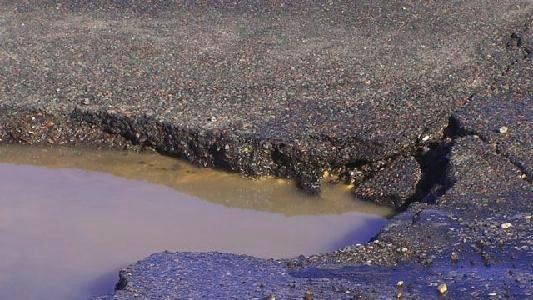pothole: (0, 99, 466, 298)
